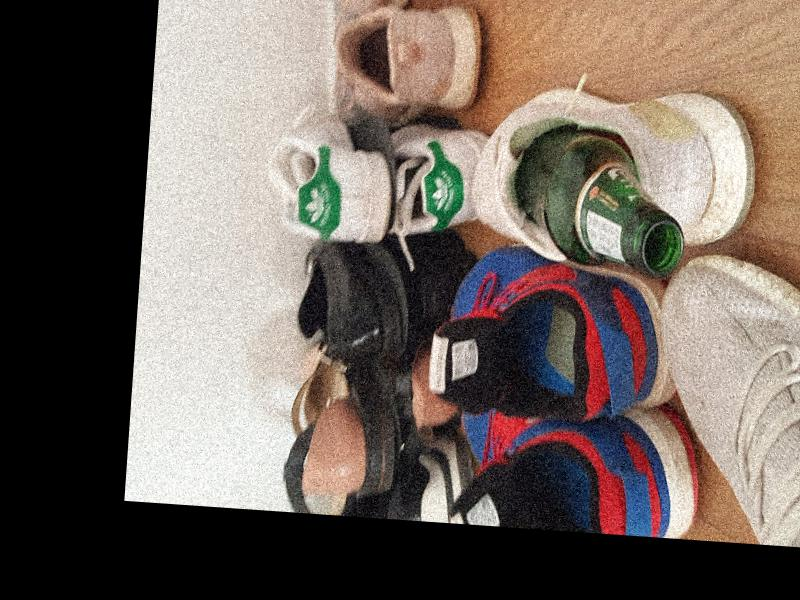Beer: (512, 126, 690, 277)
